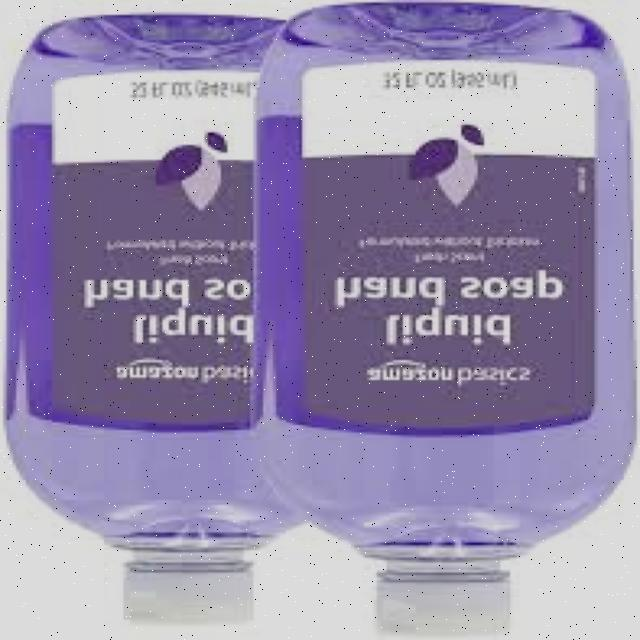liquid soap: (269, 4, 640, 638), (2, 15, 325, 633)
